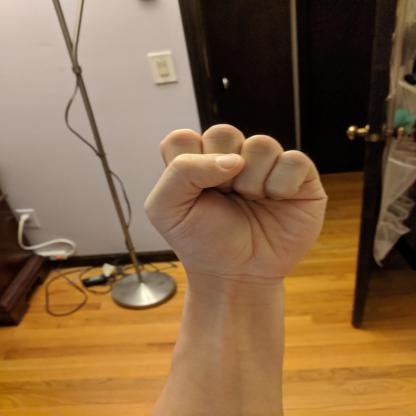S: (140, 119, 332, 281)
